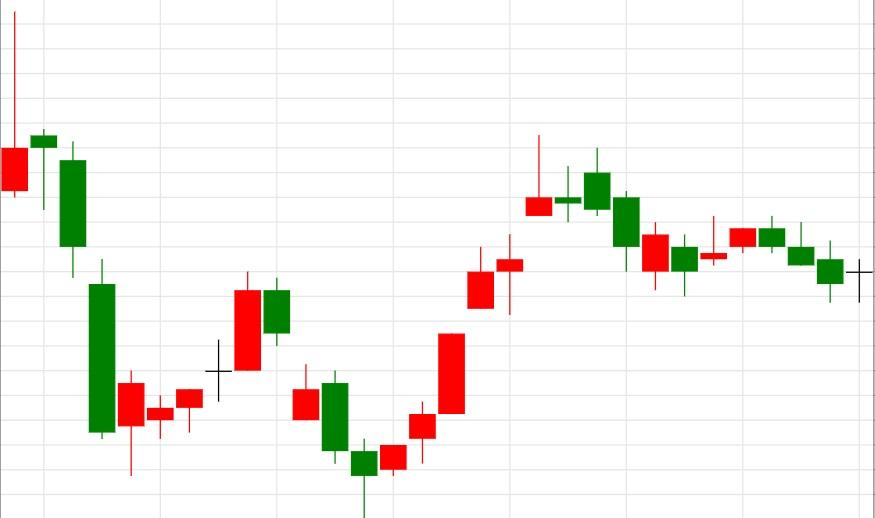bearish_engulfing_fall: (670, 216, 786, 297)
three_black_crows_fall: (671, 215, 845, 304)
three_white_soldiers_rise: (233, 271, 465, 518)
